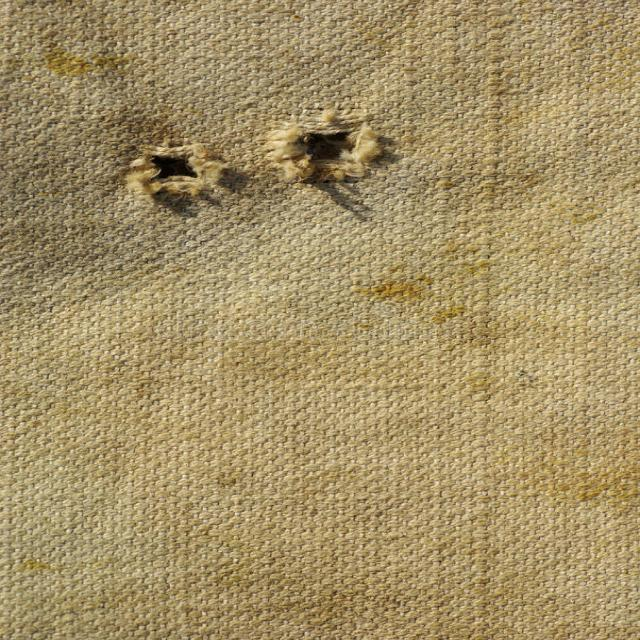Hole: (264, 109, 384, 182), (127, 143, 227, 196)
